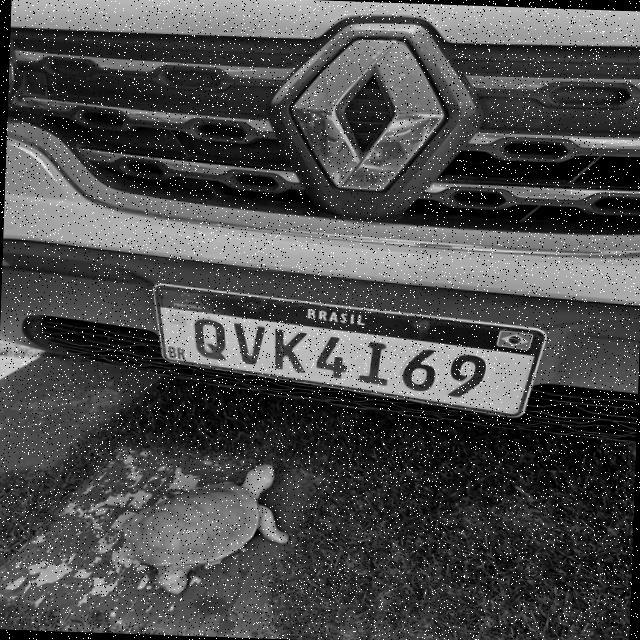numeros: (447, 352, 488, 398), (272, 327, 308, 373), (192, 318, 228, 362), (402, 348, 438, 392), (356, 340, 390, 386), (231, 322, 265, 366), (316, 335, 348, 379)
